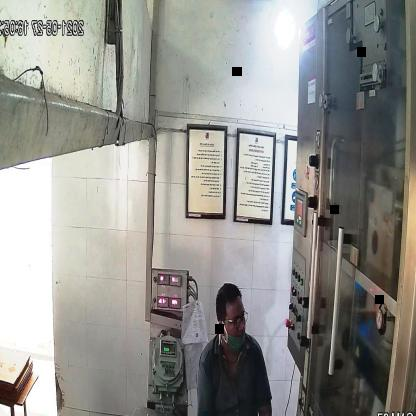goggles: (220, 306, 251, 328)
